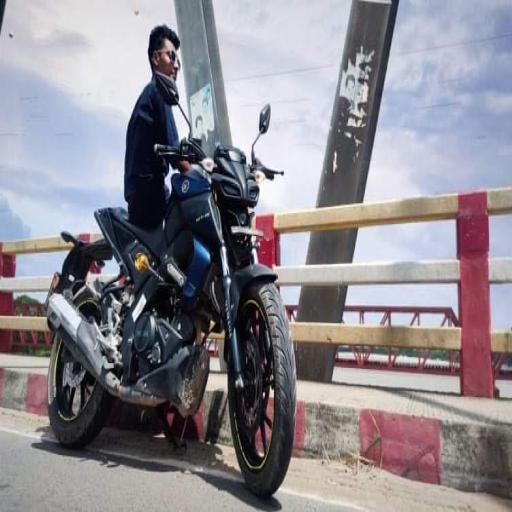helmet: (44, 100, 298, 500)
